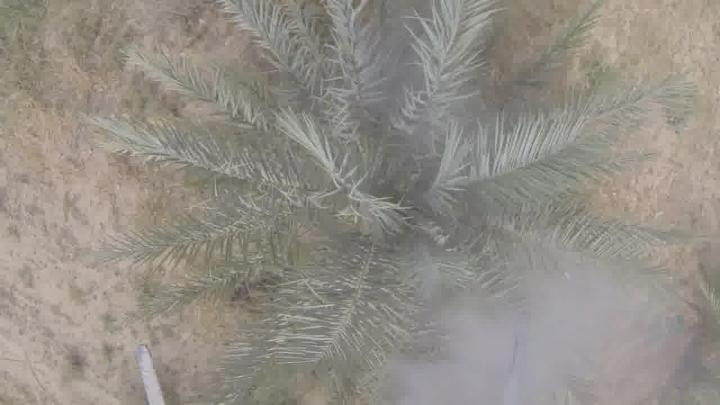Date-Palm-Crown: (240, 36, 558, 360)
